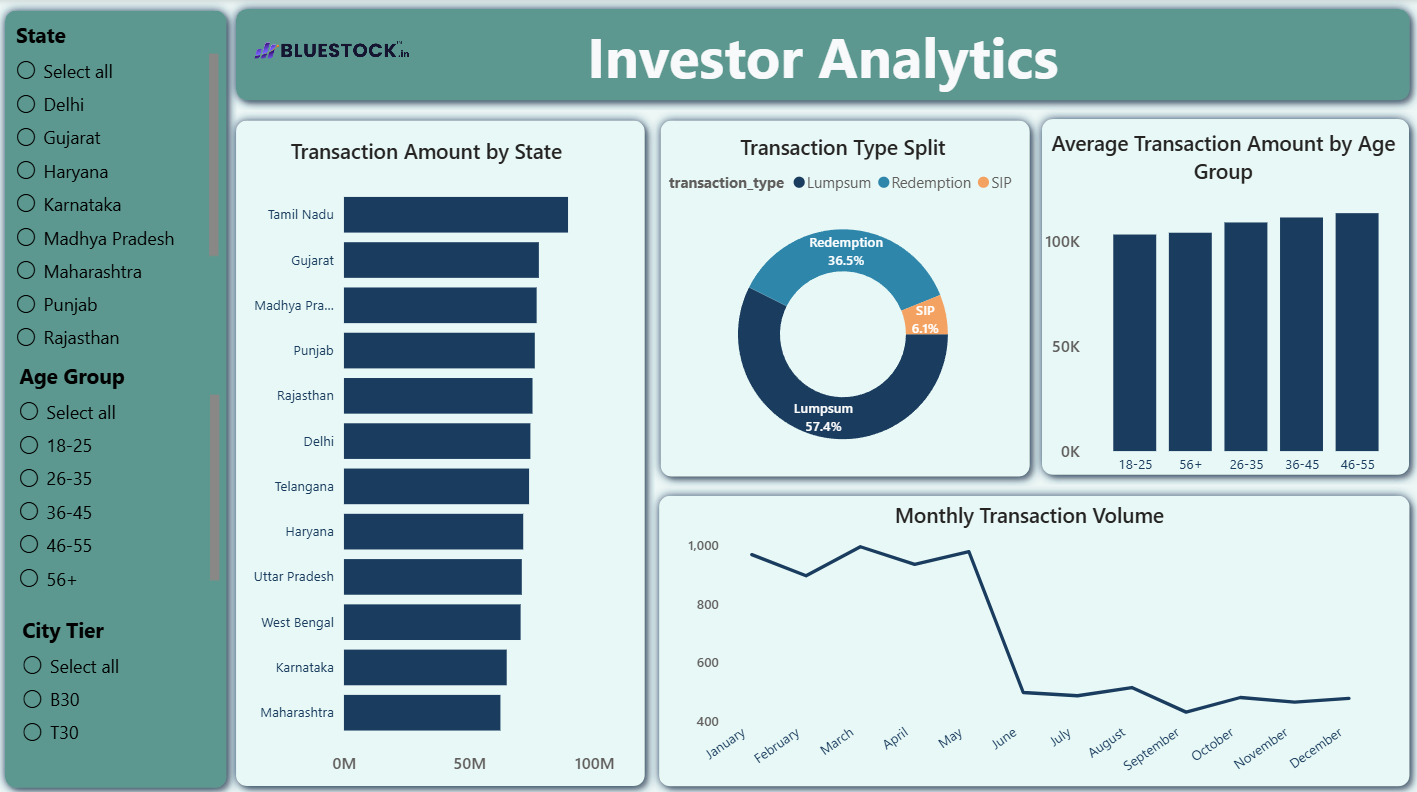

This screenshot's page, from the dashboard's own definition file:
{"tool":"powerbi","page":{"name":"Investor Analytics","canvas":[1280,720],"ordinal":2},"visuals":[{"type":"shape","box":[932.6,99.3,348.3,338.1],"z":0,"group":"g3"},{"type":"group","id":"g1","title":"Transaction Amount by State","box":[207.9,100,385.8,616.8],"z":0},{"type":"shape","box":[207.9,100,385.8,616.8],"z":0,"group":"g1"},{"type":"shape","box":[589.6,100,350.1,338.2],"z":0,"group":"g4"},{"type":"shape","box":[588,438.2,693.1,279.5],"z":0,"group":"g2"},{"type":"clusteredColumnChart","title":"Average Transaction Amount by Age Group","fields":{"Y":["Avg(08_investor_transactions_clean.amount_inr)"],"Category":["08_investor_transactions_clean.age_group"]},"box":[943.3,117.8,322.1,320.5],"z":1000,"group":"g3"},{"type":"donutChart","title":"Transaction Type Split","fields":{"Category":["08_investor_transactions_clean.transaction_type"],"Y":["Sum(08_investor_transactions_clean.amount_inr)"]},"box":[526.5,119.1,471.5,304.8],"z":1000,"group":"g4"},{"type":"clusteredBarChart","title":"Transaction Amount by State","fields":{"Category":["08_investor_transactions_clean.state"],"Y":["Sum(08_investor_transactions_clean.amount_inr)"]},"box":[218.6,124,338.3,584.7],"z":1000,"group":"g1"},{"type":"group","id":"g2","title":"Group 4","box":[588,438.2,677.9,280.9],"z":1000},{"type":"lineChart","title":"Monthly Transaction Volume","fields":{"Category":["08_investor_transactions_clean.transaction_date.Variation.Date Hierarchy.Month"],"Y":["CountNonNull(08_investor_transactions_clean.investor_id)"]},"box":[622.2,452.6,614.4,265.5],"z":1000,"group":"g2"},{"type":"group","id":"g3","title":"Group 4","box":[932.6,99.3,348.3,339],"z":2000},{"type":"group","id":"g4","title":"Group 4","box":[526.5,100,471.5,338.2],"z":3000},{"type":"shape","box":[0,1.9,217.2,717.2],"z":4000},{"type":"listSlicer","title":"Age Group","fields":{"Values":["08_investor_transactions_clean.age_group"]},"box":[16.7,326.3,190.5,214.3],"z":5000},{"type":"listSlicer","title":"City Tier","fields":{"Values":["08_investor_transactions_clean.city_tier"]},"box":[19.1,554.9,183.4,126.2],"z":6000},{"type":"listSlicer","title":"State","fields":{"Values":["08_investor_transactions_clean.state"]},"box":[14.3,19.1,192.9,302.4],"z":7000},{"type":"shape","box":[207.2,0,1074,100],"z":8000},{"type":"image","box":[232.3,23.2,140.9,43.6],"z":9000}]}

Visuals, with their boxes in screenshot pixels (x1, y1, x2, y2), scaled from the page's 1280x720 canvas onto the 1417x792 screenshot:
shape: box(1032, 109, 1416, 481)
"Transaction Amount by State" group: box(230, 110, 657, 788)
shape: box(230, 110, 657, 788)
shape: box(653, 110, 1040, 482)
shape: box(651, 482, 1416, 789)
"Average Transaction Amount by Age Group" clusteredColumnChart: box(1044, 130, 1401, 482)
"Transaction Type Split" donutChart: box(583, 131, 1105, 466)
"Transaction Amount by State" clusteredBarChart: box(242, 136, 617, 780)
"Group 4" group: box(651, 482, 1401, 791)
"Monthly Transaction Volume" lineChart: box(689, 498, 1369, 790)
"Group 4" group: box(1032, 109, 1416, 482)
"Group 4" group: box(583, 110, 1105, 482)
shape: box(0, 2, 240, 791)
"Age Group" listSlicer: box(18, 359, 229, 595)
"City Tier" listSlicer: box(21, 610, 224, 749)
"State" listSlicer: box(16, 21, 229, 354)
shape: box(229, 0, 1416, 110)
image: box(257, 26, 413, 73)
